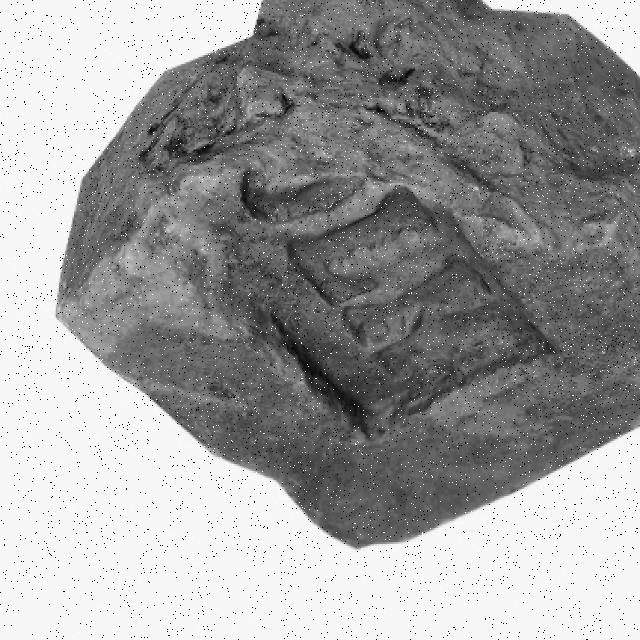bricks_ruin: (52, 0, 640, 548)
